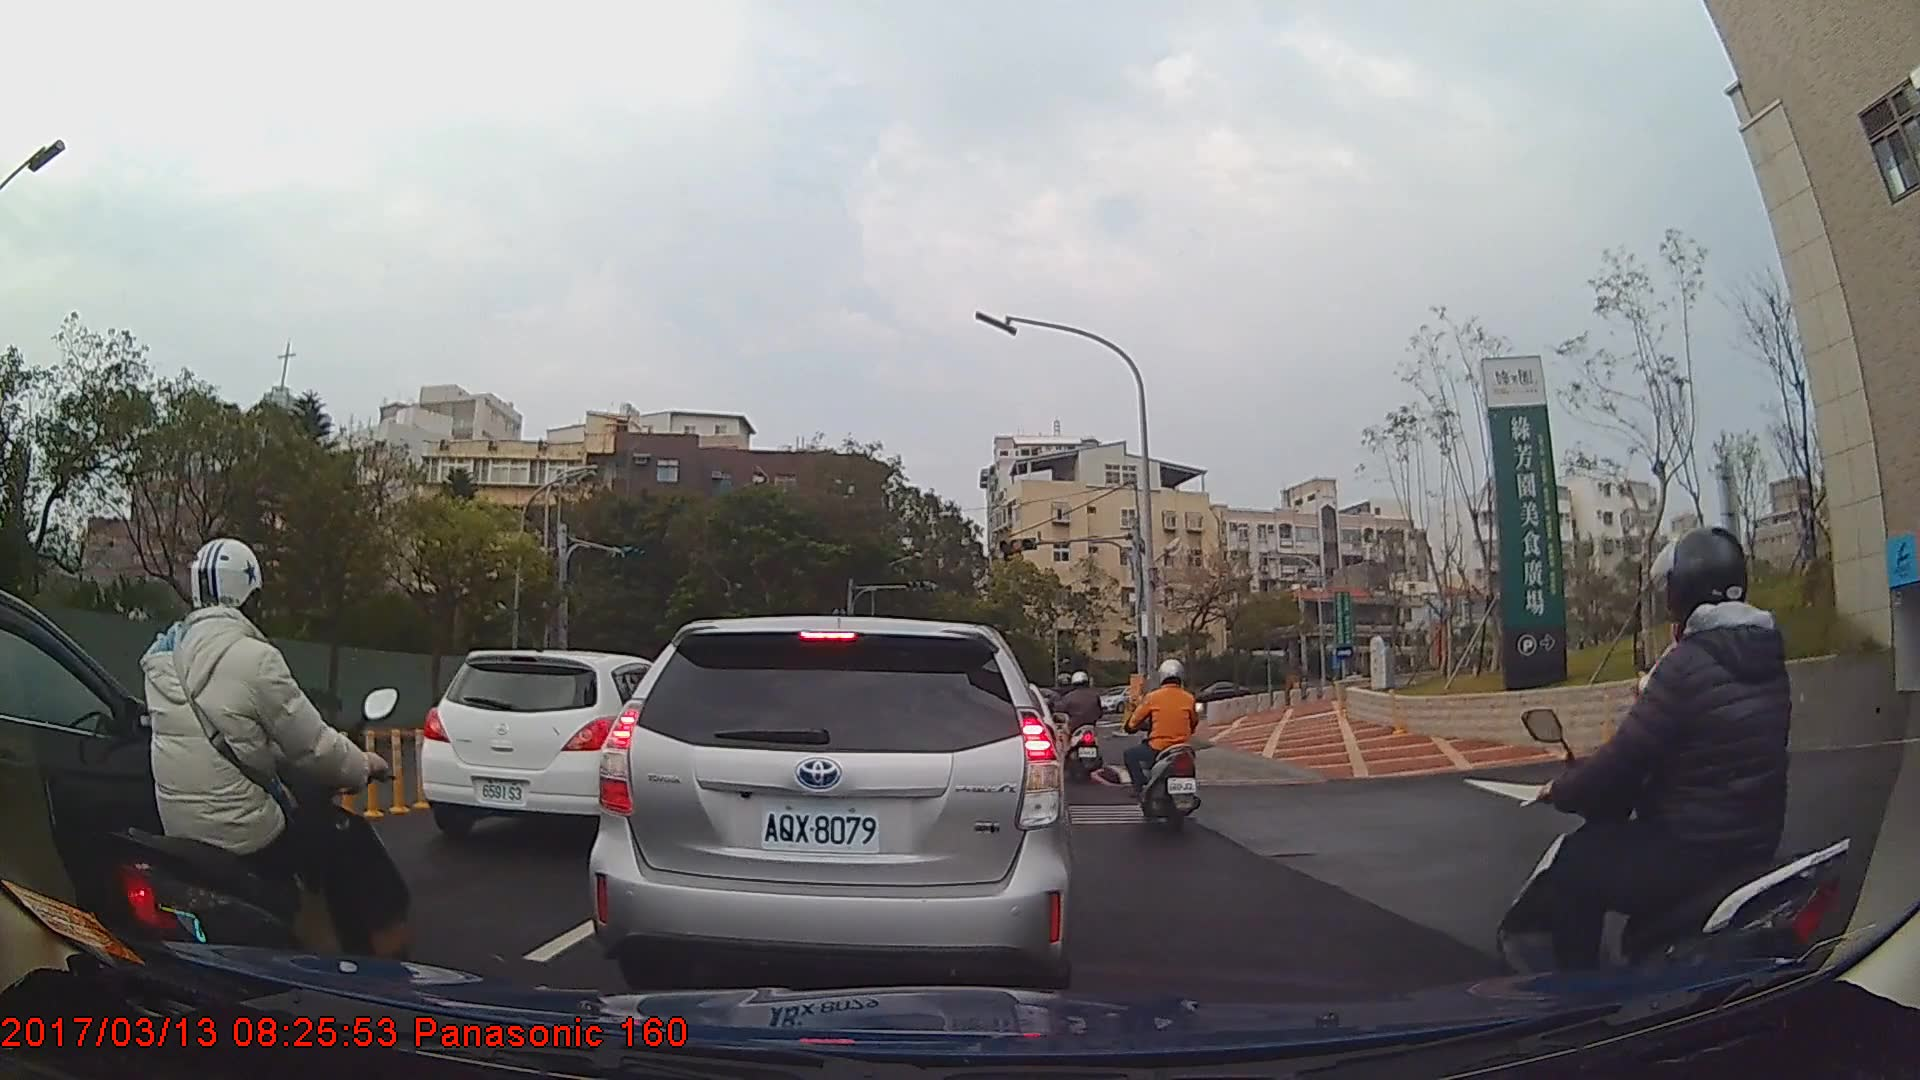rider: (1500, 525, 1857, 1025), (102, 539, 418, 1052), (1121, 653, 1209, 831), (1059, 666, 1107, 784)
vehicle: (583, 614, 1075, 987), (419, 648, 697, 841), (1183, 678, 1252, 715)
